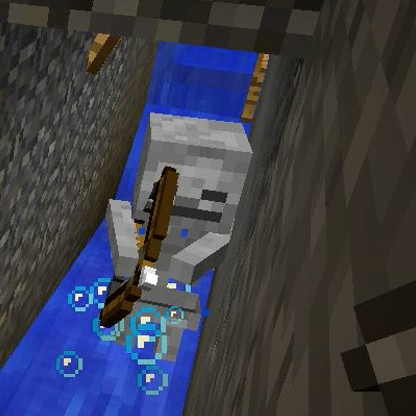skeleton: (127, 109, 267, 276)
